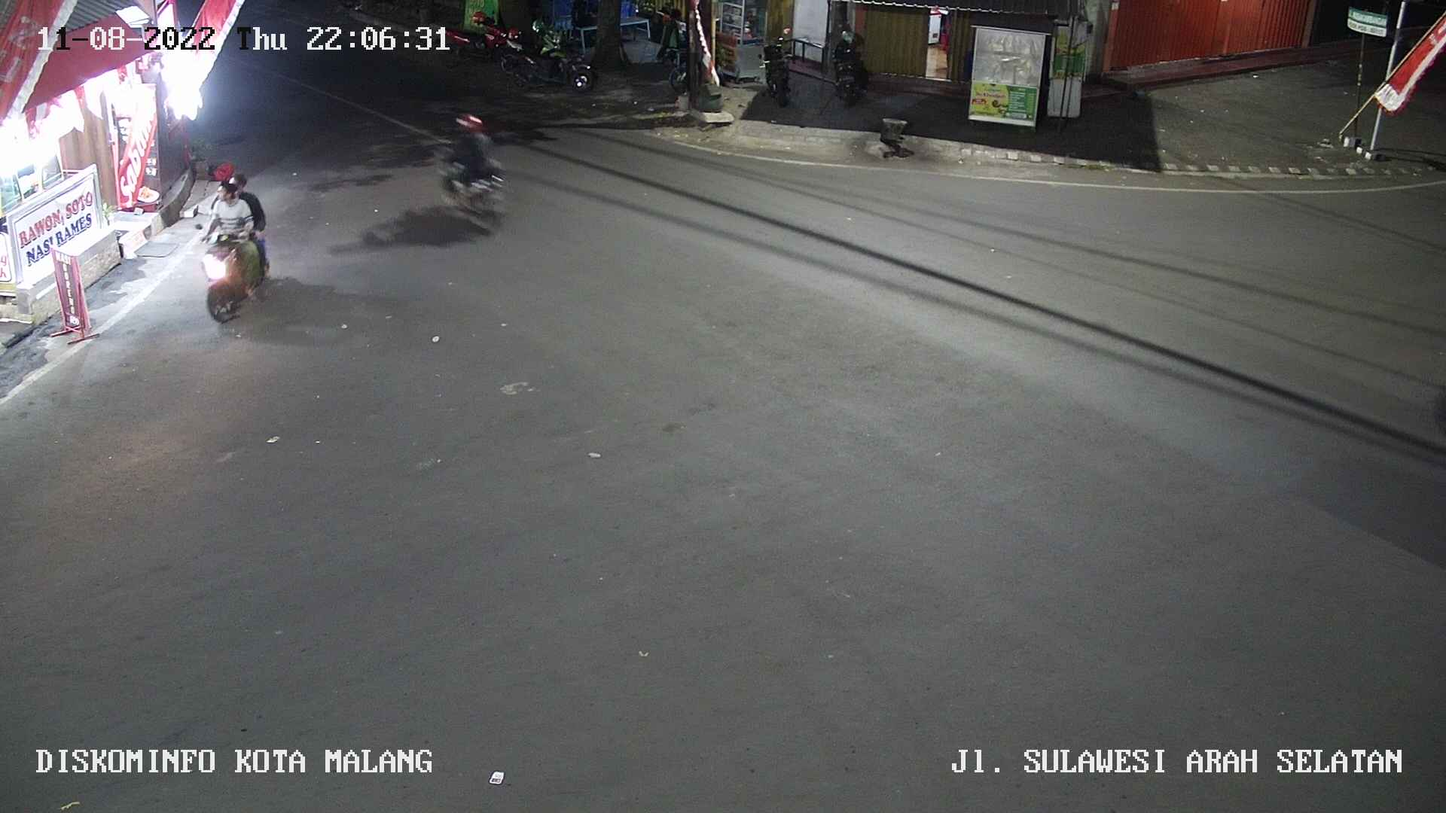with_helmet: (434, 109, 510, 240)
without_helmet: (188, 159, 274, 326)
